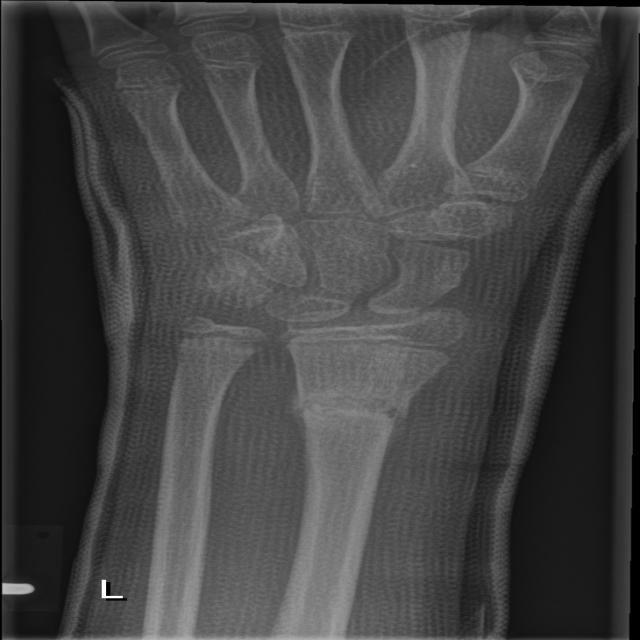radius fracture: (265, 352, 452, 523)
